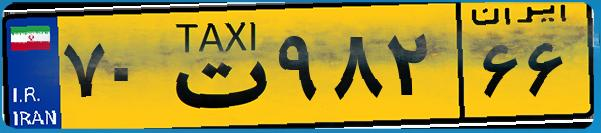0: (110, 28, 158, 98)
2: (385, 28, 445, 110)
6: (475, 38, 525, 113), (525, 38, 570, 115)
7: (57, 26, 110, 100)
8: (330, 28, 385, 110)
9: (270, 28, 330, 110)
ت: (158, 12, 270, 120)
